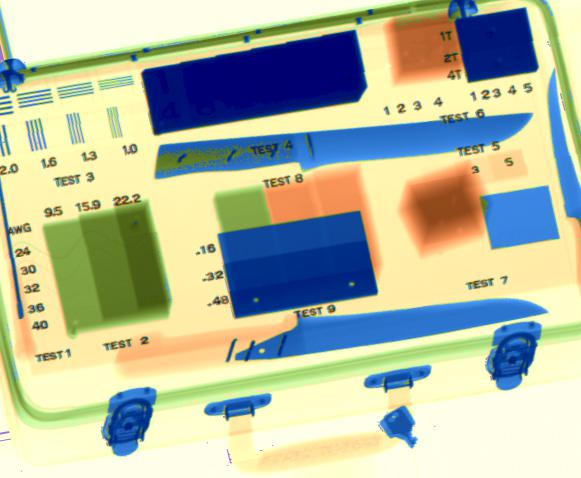Knife: (153, 112, 533, 182), (201, 296, 549, 370), (545, 67, 581, 291)
